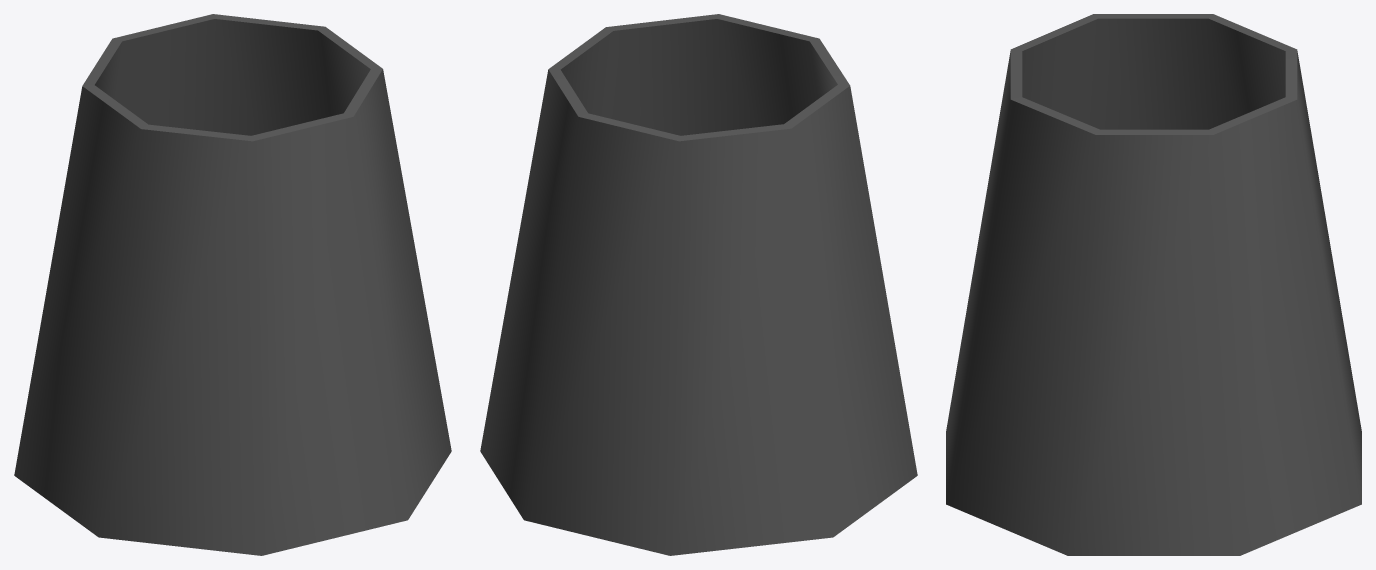
The model's file is Itr_Lamp_Cap1_03.FBX.
3 renders of one model, left to right at view 1: azimuth 30°, elevation 25°; view 2: azimuth 150°, elevation 25°; view 3: azimuth 270°, elevation 25°, orthographic. The views are drawn at different scales.
Parts seen in each view (by area): view 1: Itr_Lamp_Cap1_03; view 2: Itr_Lamp_Cap1_03; view 3: Itr_Lamp_Cap1_03.
Boxes of the visible parts, x1,y1,x2,y2 form: Itr_Lamp_Cap1_03: (14,14,451,555); Itr_Lamp_Cap1_03: (480,14,917,555); Itr_Lamp_Cap1_03: (946,14,1361,555).
Size of the model in its own units: 8.48 by 8.86 by 8.48.
